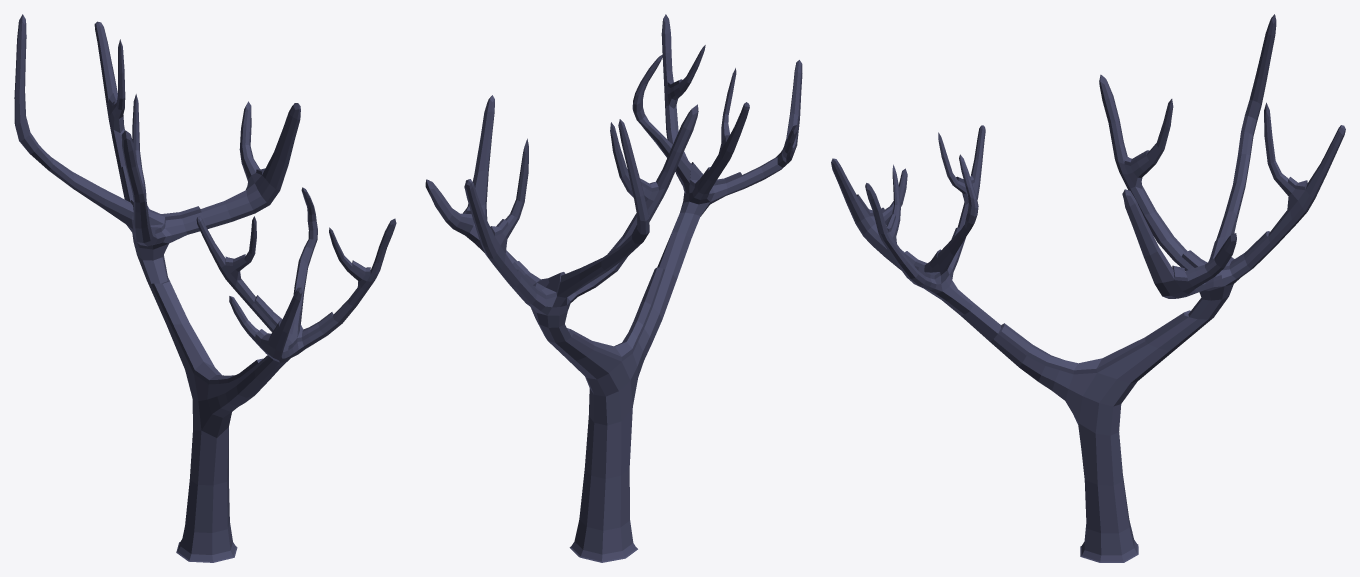
File: Dead_tree_5.fbx
3 views of the same model, side by side, from view 1: azimuth 30°, elevation 25°; view 2: azimuth 150°, elevation 25°; view 3: azimuth 270°, elevation 25° (orthographic). The views are drawn at different scales.
Visible parts, largest first — view 1: Dead_tree_5; view 2: Dead_tree_5; view 3: Dead_tree_5.
Part boxes in pixels (bbox=[...]): Dead_tree_5: bbox=[14, 14, 396, 562]; Dead_tree_5: bbox=[425, 14, 802, 562]; Dead_tree_5: bbox=[831, 14, 1345, 562].
Bounding box in the file's own units: 6.9 × 14.68 × 14.01.
